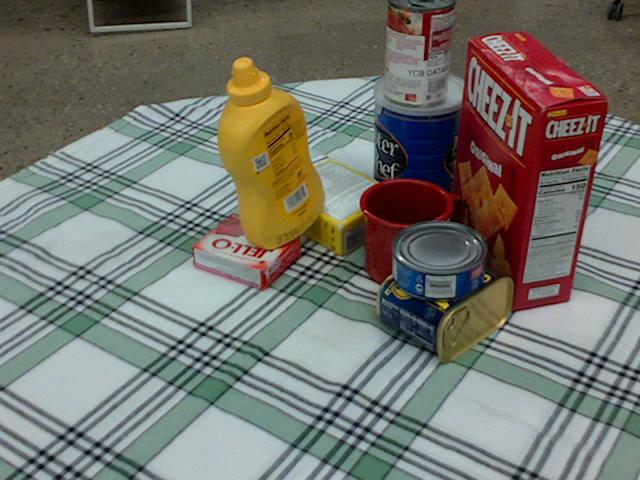cracker_box: (449, 31, 610, 307)
gelatin_box: (192, 215, 302, 291)
master_chef_can: (370, 68, 470, 224)
mug: (360, 178, 464, 290)
mustard_bottle: (217, 57, 324, 249)
potted_meat_can: (379, 241, 517, 358)
sugar_box: (232, 138, 399, 255)
tomato_soup_can: (384, 0, 455, 106)
tuna_fish_can: (391, 221, 487, 300)
